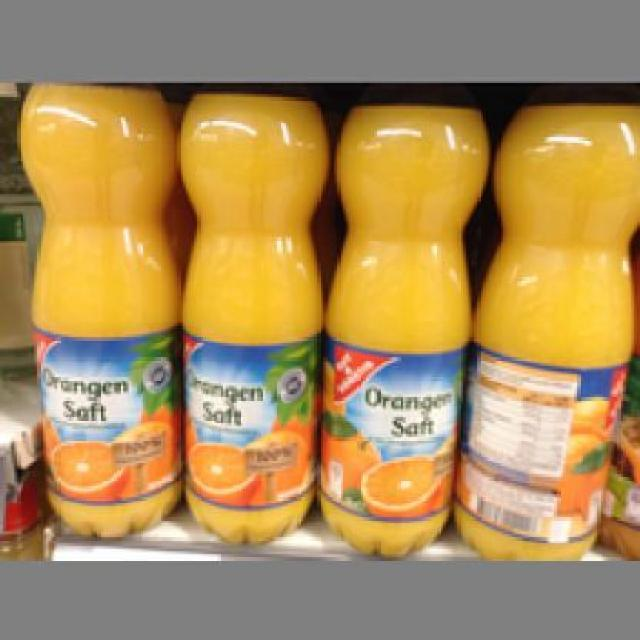Juice: (454, 88, 637, 558), (314, 93, 490, 550), (14, 82, 180, 535), (171, 83, 326, 540)
